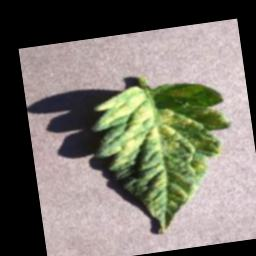Leaf_Mold: (88, 73, 244, 241)
